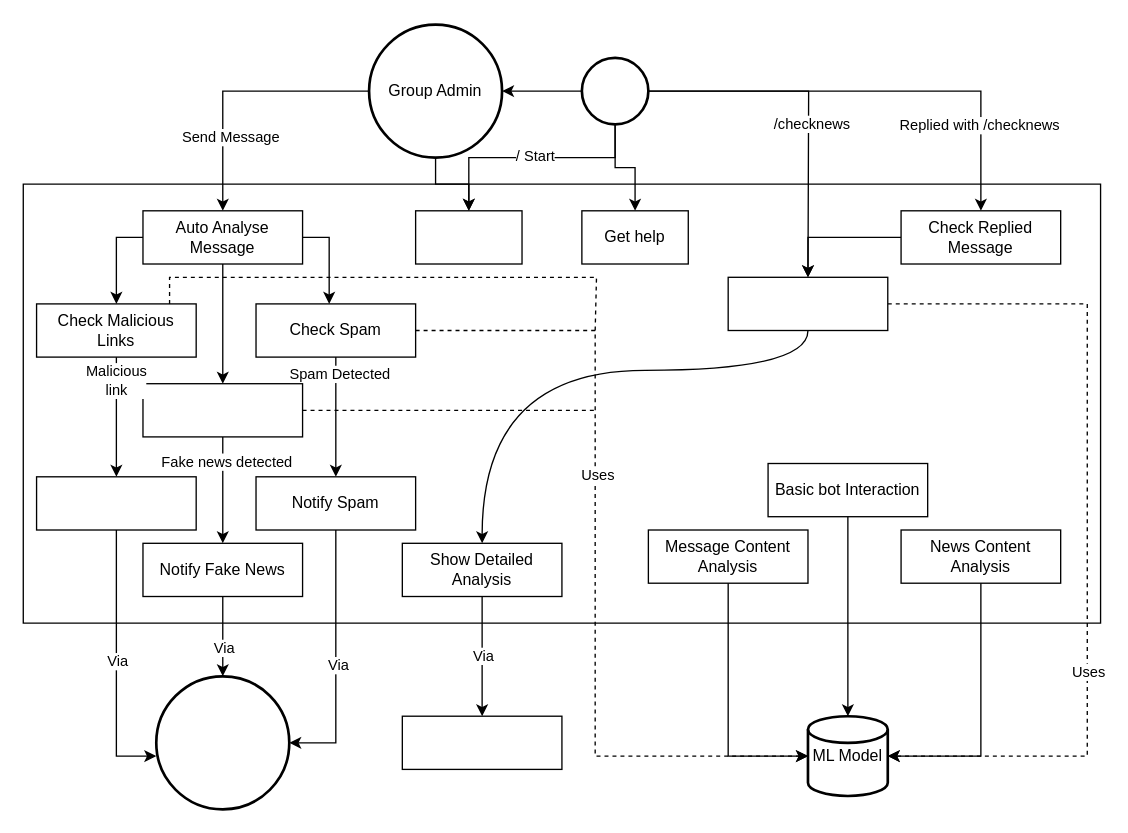
Image size: 1128x833. Some labels were removed from this diagram. The centre of each missing label's shape, as x and y in pixels:
Check Fake news: the point at 222,409
Manual Check News: the point at 807,303
Notify Malicious Link: the point at 115,502
Start Bot: the point at 468,236
Telegram API: the point at 222,742
TelegramAPITextText: the point at 481,742
User: the point at 614,90
